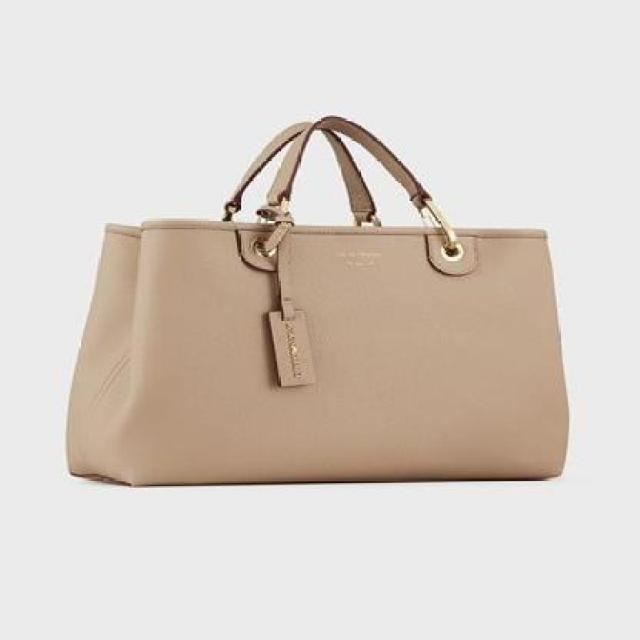not trash: (64, 111, 568, 484)
